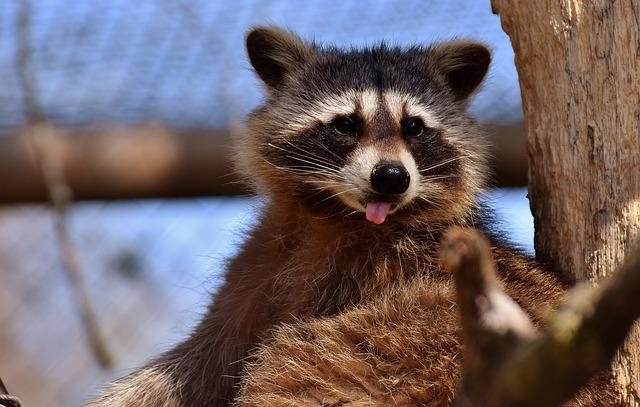raccoon: (80, 24, 640, 407)
